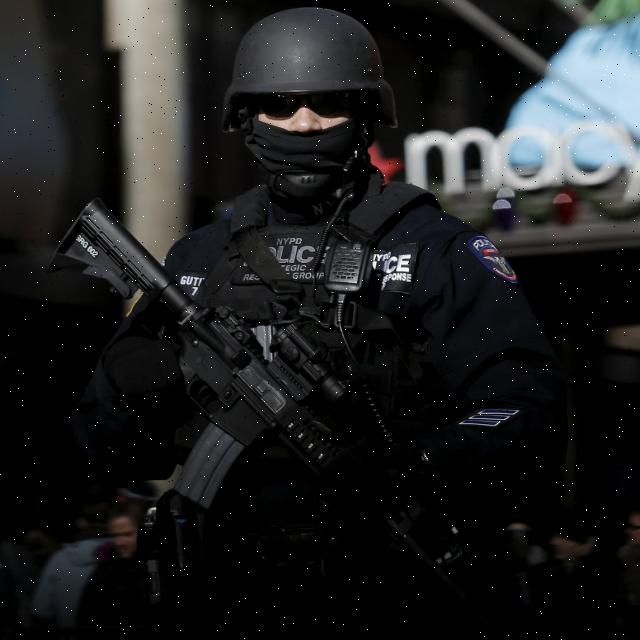police: (44, 2, 526, 640)
